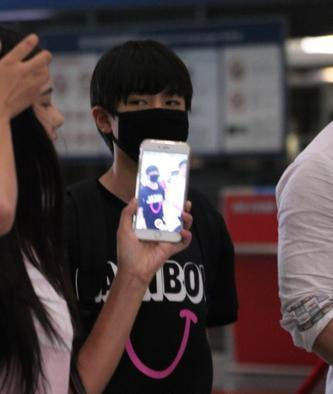NONE: (18, 83, 70, 158)
OK: (113, 76, 198, 161)
